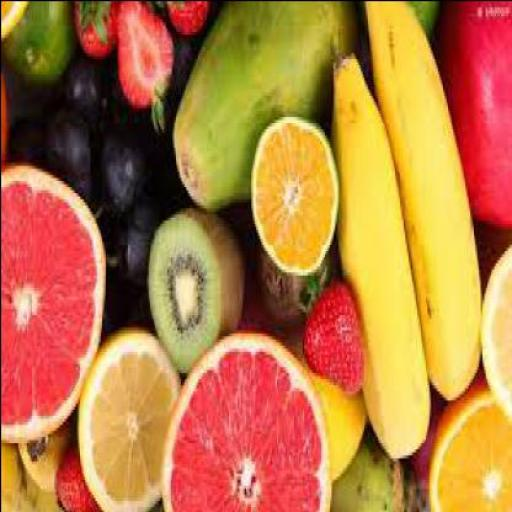biodegradable: (0, 2, 511, 511), (360, 2, 478, 408), (327, 52, 426, 462), (170, 3, 358, 210), (159, 338, 327, 511), (1, 170, 101, 445), (73, 332, 177, 511), (432, 3, 510, 235), (143, 207, 242, 375), (248, 119, 335, 280), (279, 332, 363, 485), (423, 394, 510, 512), (298, 274, 362, 399), (113, 3, 173, 134), (243, 238, 332, 326), (476, 228, 510, 439), (1, 3, 74, 98), (329, 432, 406, 511), (96, 125, 153, 226), (15, 417, 76, 494), (113, 195, 161, 292), (402, 394, 444, 500), (60, 55, 108, 137), (42, 110, 90, 184), (53, 448, 101, 511), (365, 3, 435, 43), (152, 137, 184, 216), (72, 3, 114, 61), (8, 110, 50, 164), (164, 43, 194, 110), (158, 3, 204, 40), (18, 475, 58, 511), (110, 284, 144, 326), (0, 448, 22, 511), (127, 198, 159, 232), (1, 2, 22, 40), (74, 180, 91, 204), (1, 73, 4, 165)
